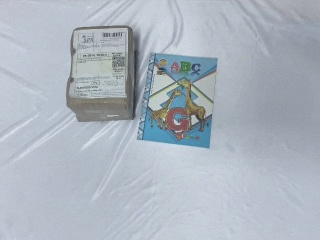book: (134, 53, 219, 150)
box: (65, 26, 139, 122)
